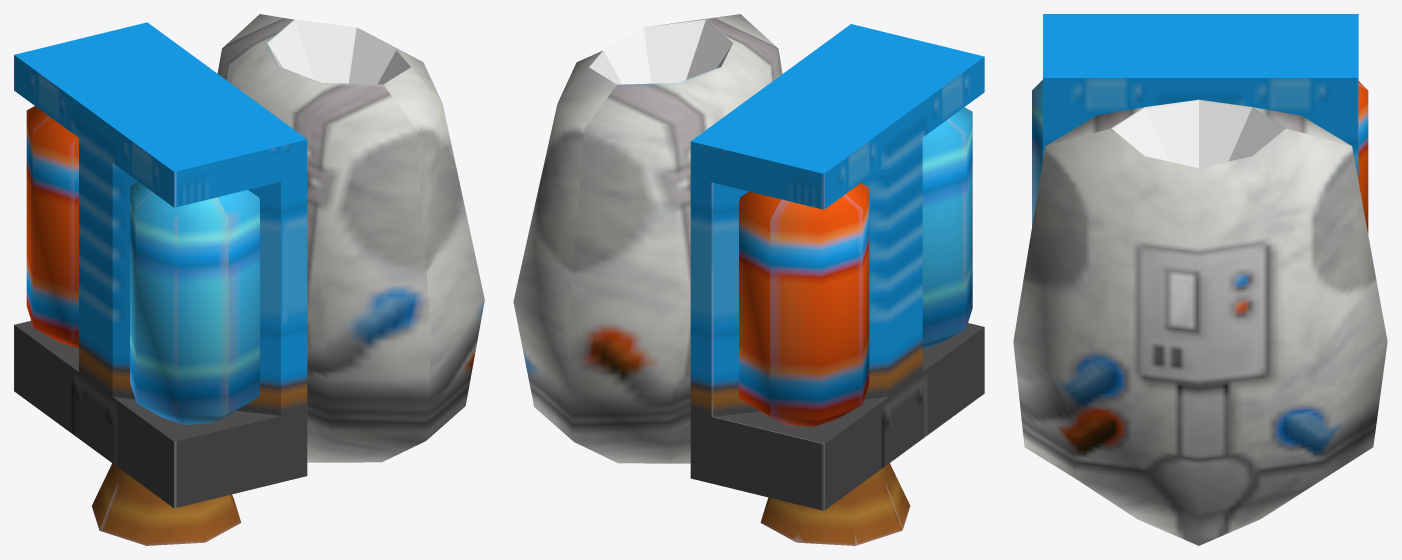
The model's file is human1h.gltf.
The picture shows the model from 3 angles, left to right: view 1: azimuth 30°, elevation 25°; view 2: azimuth 150°, elevation 25°; view 3: azimuth 270°, elevation 25°; orthographic projection.
Parts seen in each view (by area): view 1: human1h; view 2: human1h; view 3: human1h.
Part boxes in pixels (left/top/right/bottom): human1h: left=14, top=14, right=484, bottom=545; human1h: left=513, top=14, right=984, bottom=545; human1h: left=1013, top=14, right=1387, bottom=545.
Bounding box in the file's own units: 3.25 × 3.58 × 2.94.
